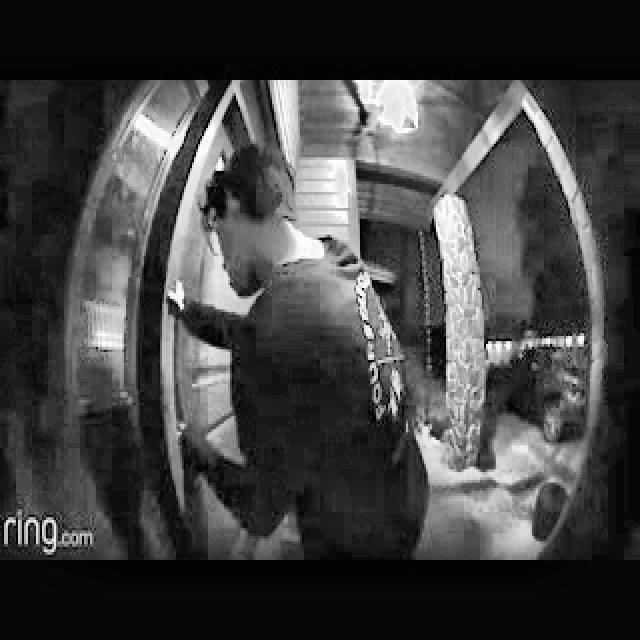burglary: (140, 131, 436, 559)
